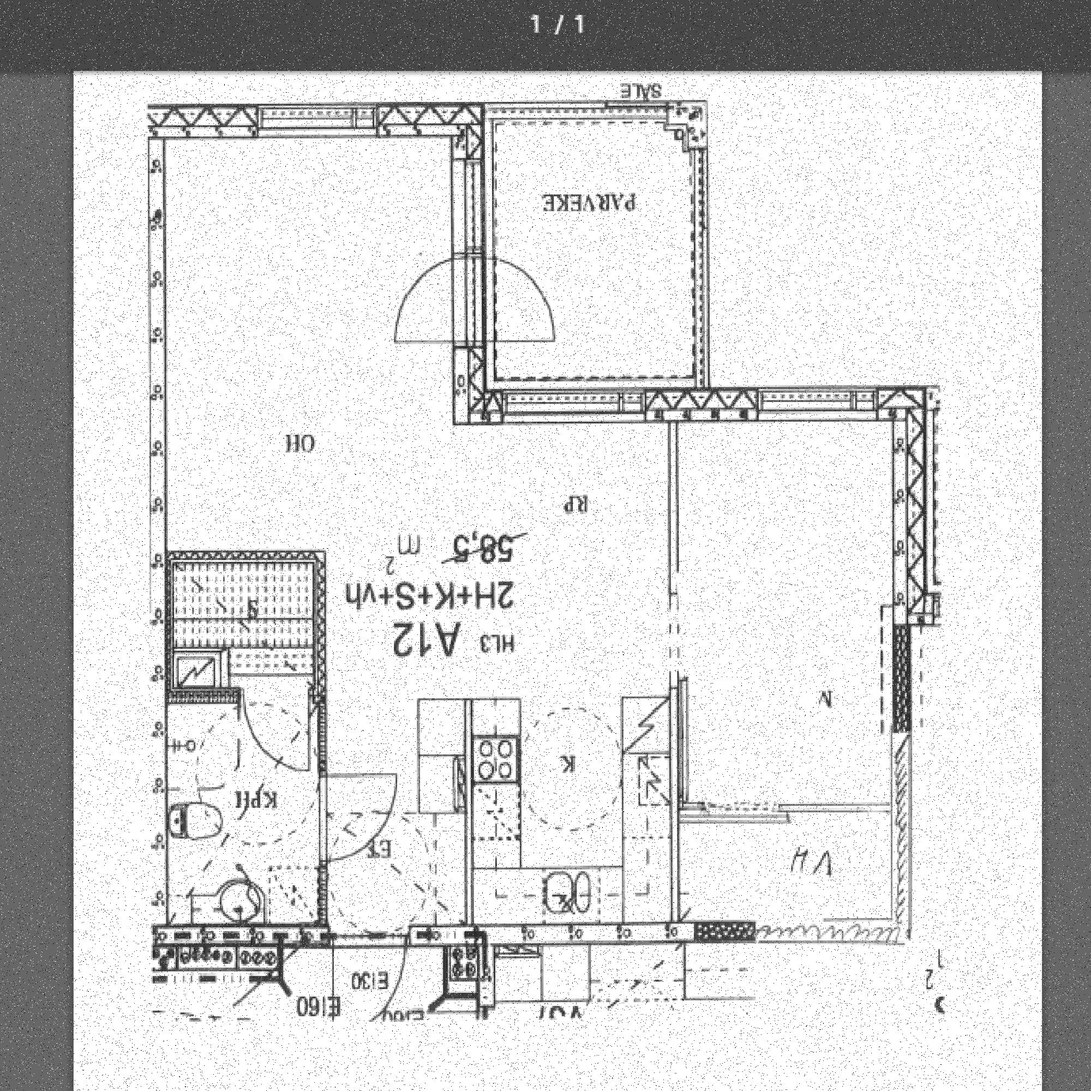wall: (454, 389, 911, 424), (150, 925, 911, 944), (150, 103, 167, 944), (150, 103, 485, 139), (892, 389, 911, 944), (454, 103, 485, 425), (671, 425, 678, 926), (318, 553, 326, 925), (678, 803, 892, 812), (466, 702, 474, 926), (167, 553, 326, 563), (167, 692, 318, 702), (691, 103, 709, 150), (670, 103, 709, 124)
